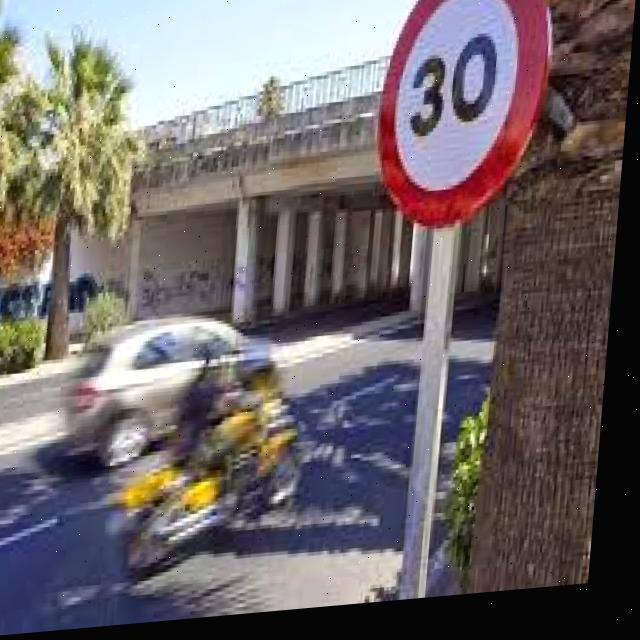Speed limit 30: (370, 1, 561, 243)
